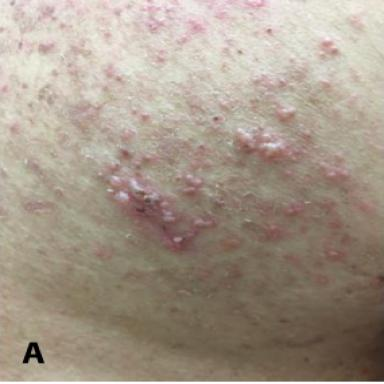Darier_s-Disease: (0, 0, 377, 317)
